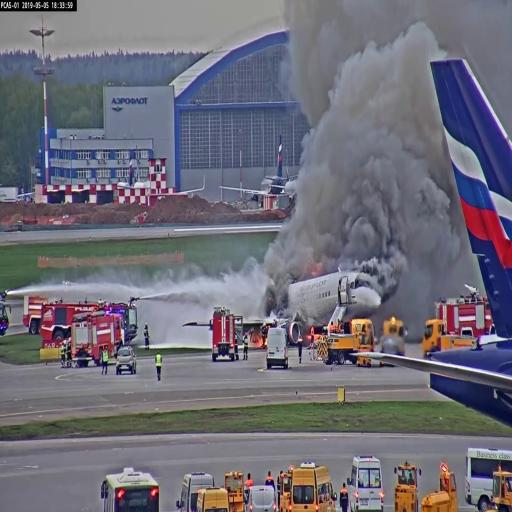smoke: (304, 6, 418, 256)
